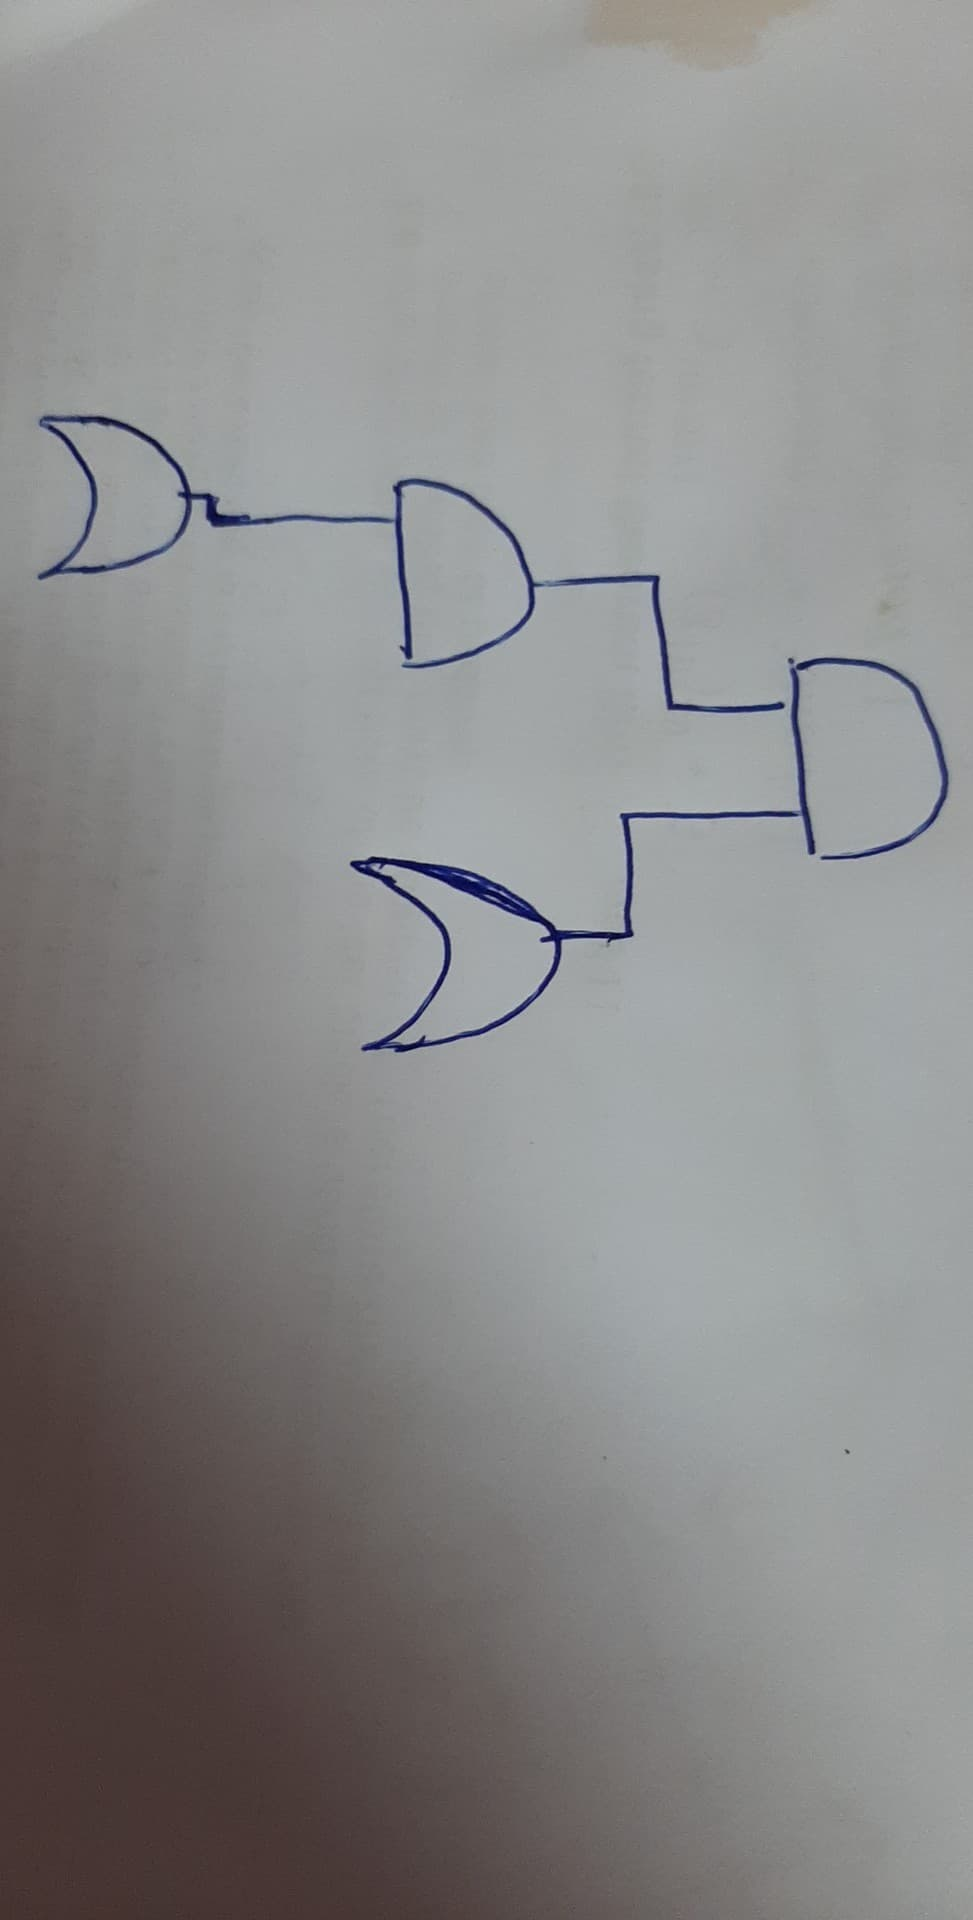and: (768, 651, 961, 874), (380, 474, 544, 680)
or: (346, 846, 571, 1070), (26, 397, 200, 600)
